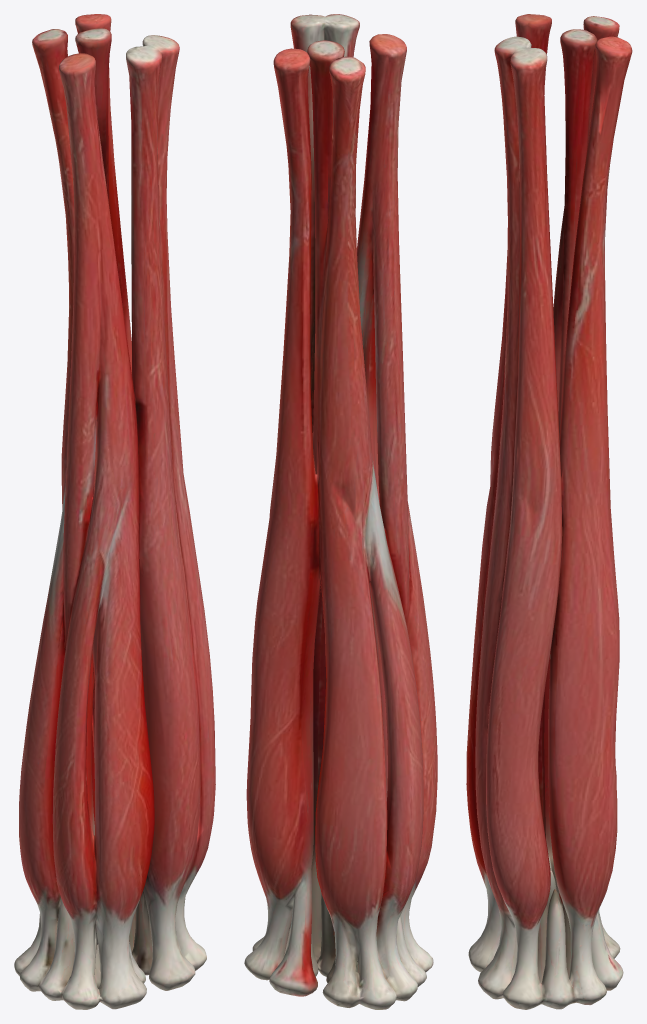
Rendered from forearm-flexors.glb.
3 views of the same model, side by side, from view 1: azimuth 30°, elevation 25°; view 2: azimuth 150°, elevation 25°; view 3: azimuth 270°, elevation 25° (orthographic).
Visible parts, largest first — view 1: forearm-flexors; view 2: forearm-flexors; view 3: forearm-flexors.
Part boxes in pixels (x1,y1,x2,y2): forearm-flexors: [14, 14, 215, 1009]; forearm-flexors: [244, 14, 437, 1009]; forearm-flexors: [466, 14, 632, 1009].
Size of the model in its own units: 0.1841 by 1 by 0.1593.
1 material, 1 textured.
